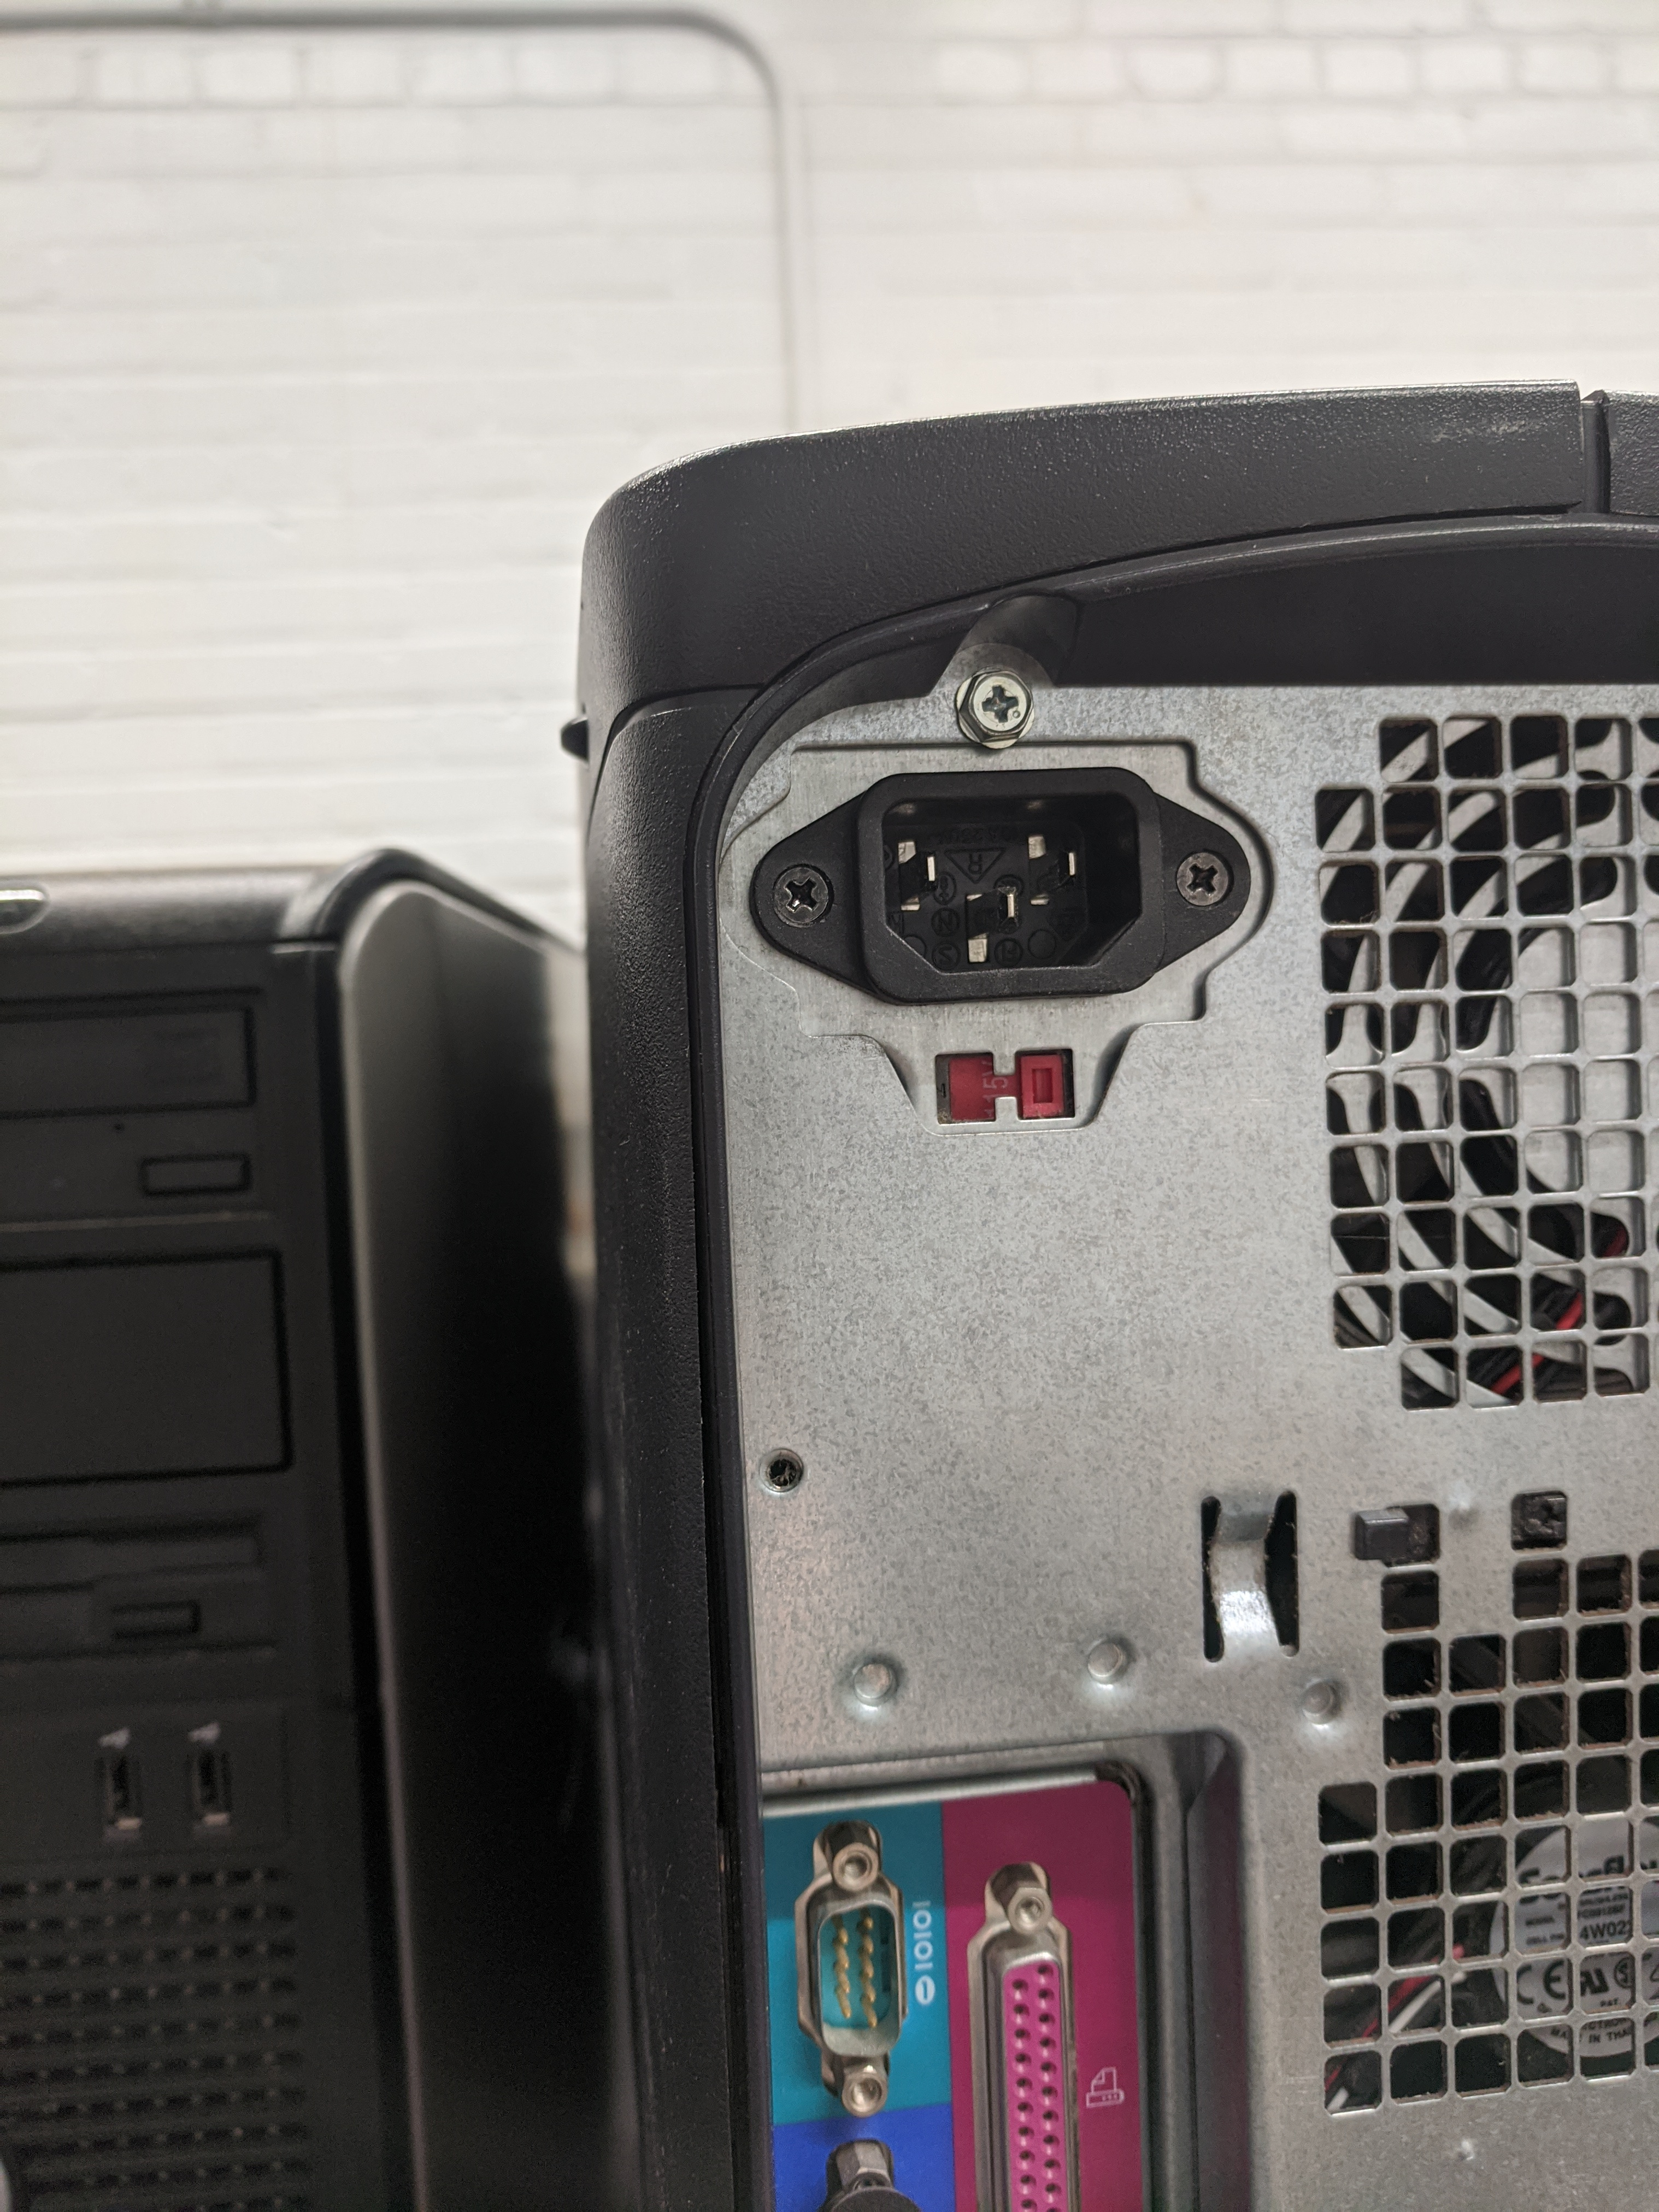cross_recessed_screw: (1159, 833, 1249, 923), (946, 655, 1028, 754), (760, 840, 835, 939)
